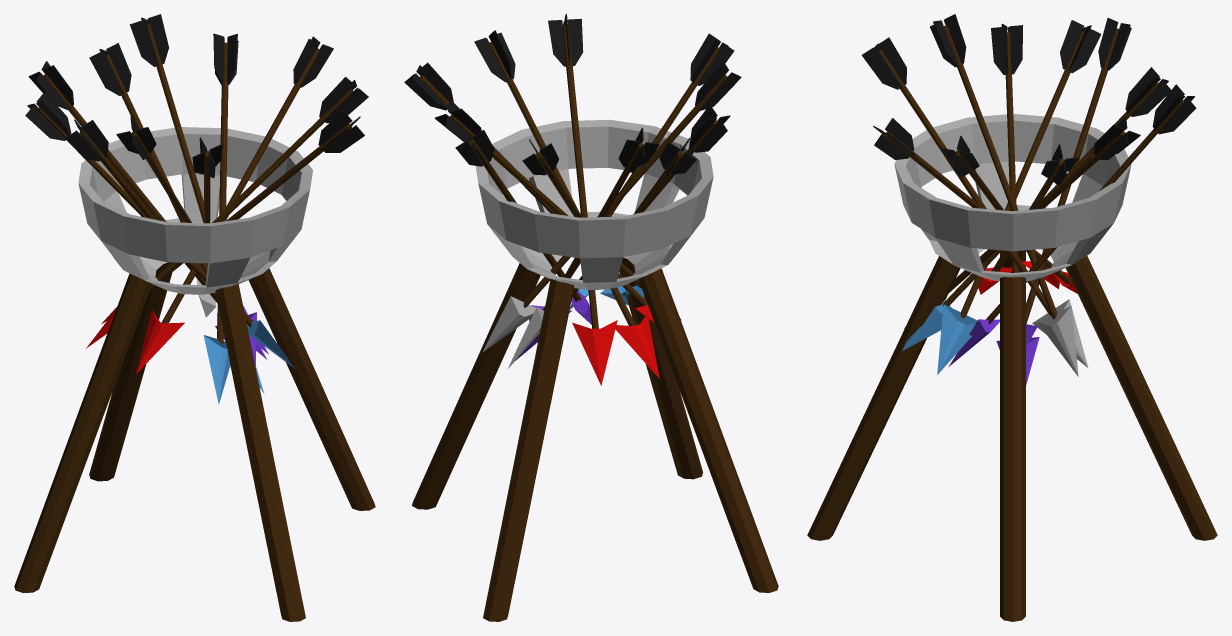
The model's file is arrow_refill.fbx.
The picture shows the model from 3 angles, left to right: view 1: azimuth 30°, elevation 25°; view 2: azimuth 150°, elevation 25°; view 3: azimuth 270°, elevation 25°; orthographic projection.
Visible parts, largest first — view 1: Arrow_refill; view 2: Arrow_refill; view 3: Arrow_refill.
Part boxes in pixels (left/top/right/bottom): Arrow_refill: left=14, top=14, right=375, bottom=621; Arrow_refill: left=404, top=14, right=778, bottom=621; Arrow_refill: left=807, top=14, right=1217, bottom=621.
Size of the model in its own units: 0.9219 by 1.16 by 0.9118.
